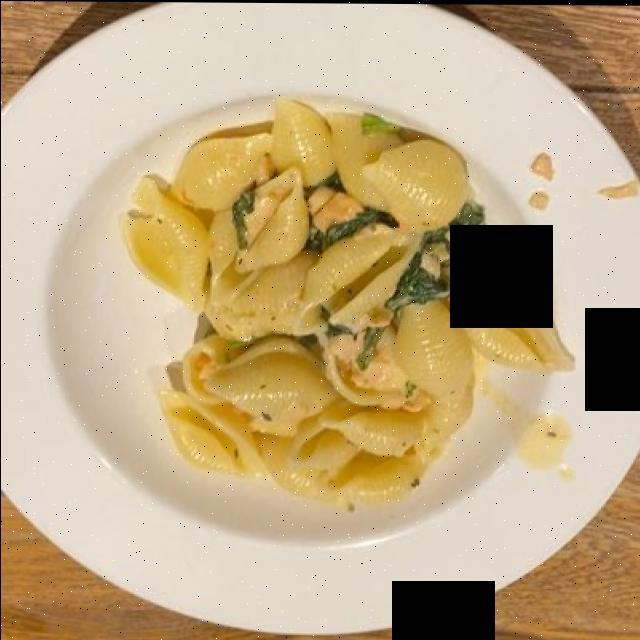pasta: (140, 110, 566, 501)
salmon: (302, 188, 403, 392)
spinach: (230, 182, 485, 374)
